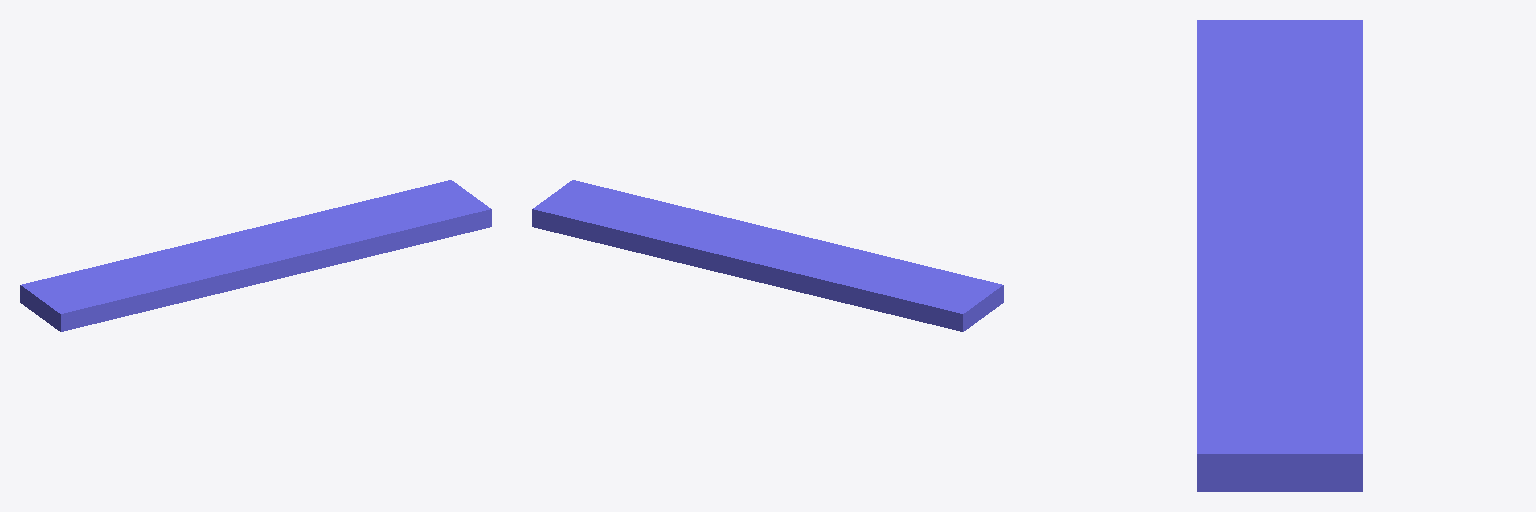
robot.urdf — water:
<?xml version="1.0"?>

<robot name="water">
    <link name="odom">
        <visual>
            <geometry>
                <mesh scale="0.1 0.1 0.1"
filename="package://boat_model/meshes/water.stl"/>
            </geometry>
            <origin rpy="1.5708 0 0" xyz="0 0 0"/>
            <material name="water">
                <color rgba="0.5 0.5 1 0.5"/>
            </material>
        </visual>
    </link>
</robot>

--- What the picture shows (computed from the rendered views, not written in the file) ---
The picture shows the robot from 3 angles, left to right: view 1: azimuth 30°, elevation 25°; view 2: azimuth 150°, elevation 25°; view 3: azimuth 270°, elevation 25°; orthographic projection.
Robot: water — 1 links, 0 joints (none); root link odom; default pose: every joint at zero.
Visible links, largest first — view 1: odom; view 2: odom; view 3: odom.
Link boxes in pixels (x1,y1,x2,y2): odom: (20,180,491,331); odom: (532,180,1003,331); odom: (1197,20,1362,491).
Size in the robot's own frame: 40 by 6.45 by 1.6 metres.
1 mesh visuals loaded from 1 distinct referenced files (1 binary STL).